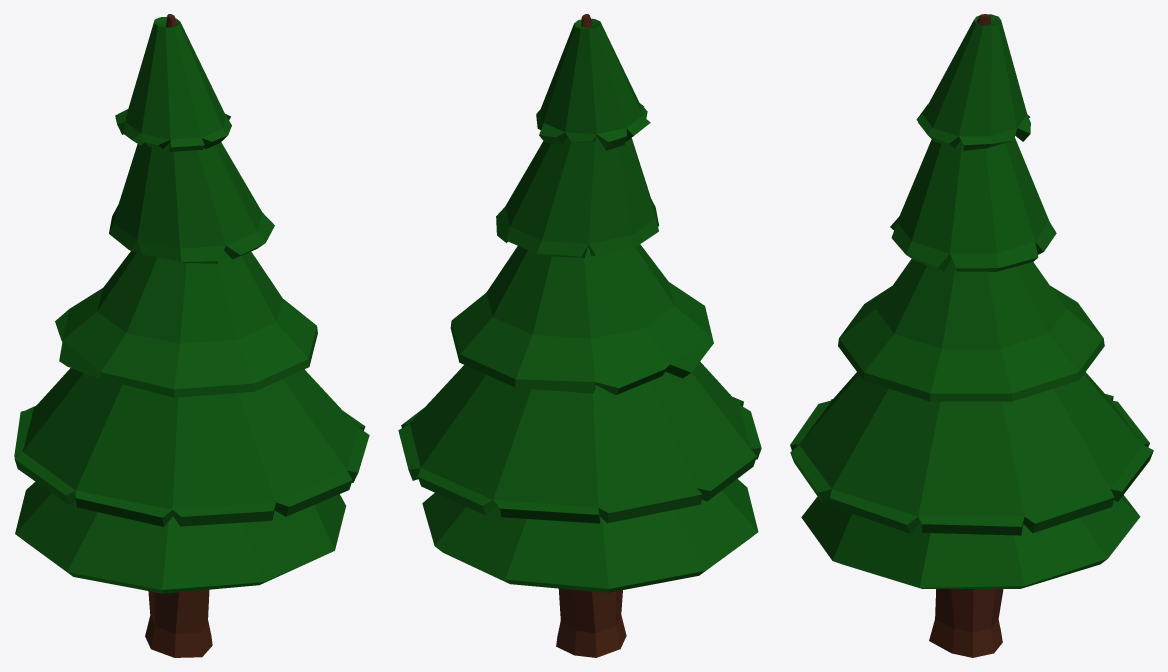
Rendered from pinetree3.fbx.
3 views of the same model, side by side, from view 1: azimuth 30°, elevation 25°; view 2: azimuth 150°, elevation 25°; view 3: azimuth 270°, elevation 25° (orthographic).
Parts seen in each view (by area): view 1: Circle, Cylinder; view 2: Circle, Cylinder; view 3: Circle, Cylinder.
Part boxes in pixels (left/top/right/bottom): Circle: left=14, top=16, right=369, bottom=593; Cylinder: left=145, top=14, right=212, bottom=657; Circle: left=398, top=18, right=761, bottom=592; Cylinder: left=556, top=14, right=626, bottom=657; Circle: left=790, top=14, right=1153, bottom=588; Cylinder: left=929, top=14, right=1003, bottom=657.
Size of the model in its own units: 593 by 1164 by 613.
